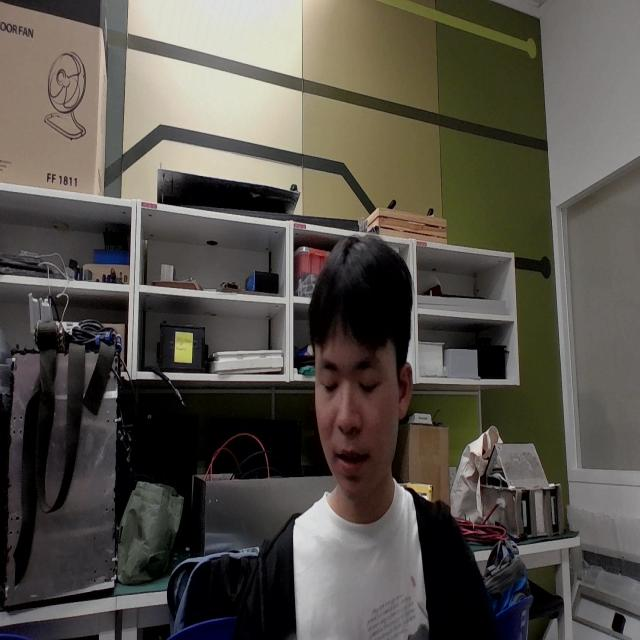Without Helmet: (297, 214, 438, 532)
